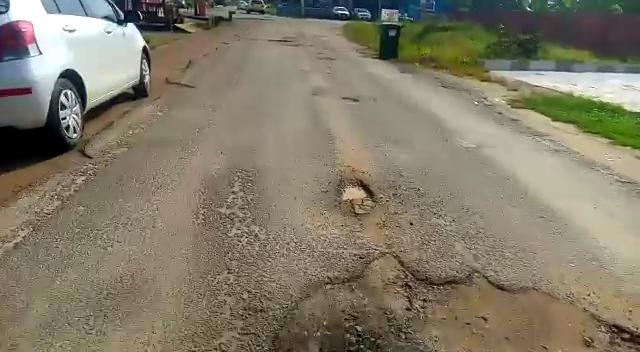pothole: (268, 261, 640, 352), (339, 172, 377, 215)
